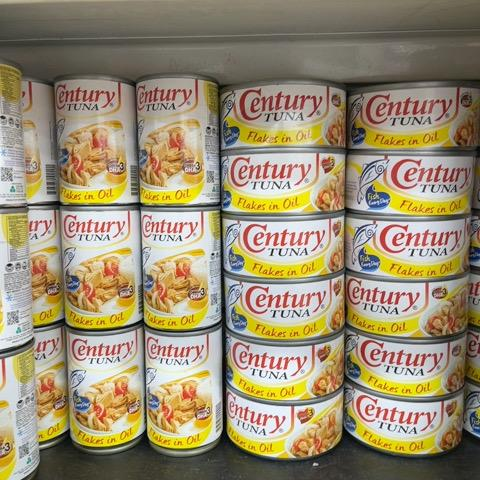canned-goods: (133, 70, 225, 211), (52, 70, 142, 211), (144, 321, 227, 459), (57, 200, 144, 331), (138, 202, 224, 332), (64, 327, 150, 456), (340, 375, 468, 461), (343, 206, 475, 285), (343, 78, 480, 154), (221, 269, 355, 346), (217, 81, 354, 156), (340, 327, 473, 404), (223, 381, 344, 463), (218, 207, 352, 281), (344, 148, 480, 218), (221, 330, 346, 406), (217, 146, 351, 216), (345, 275, 475, 340)
